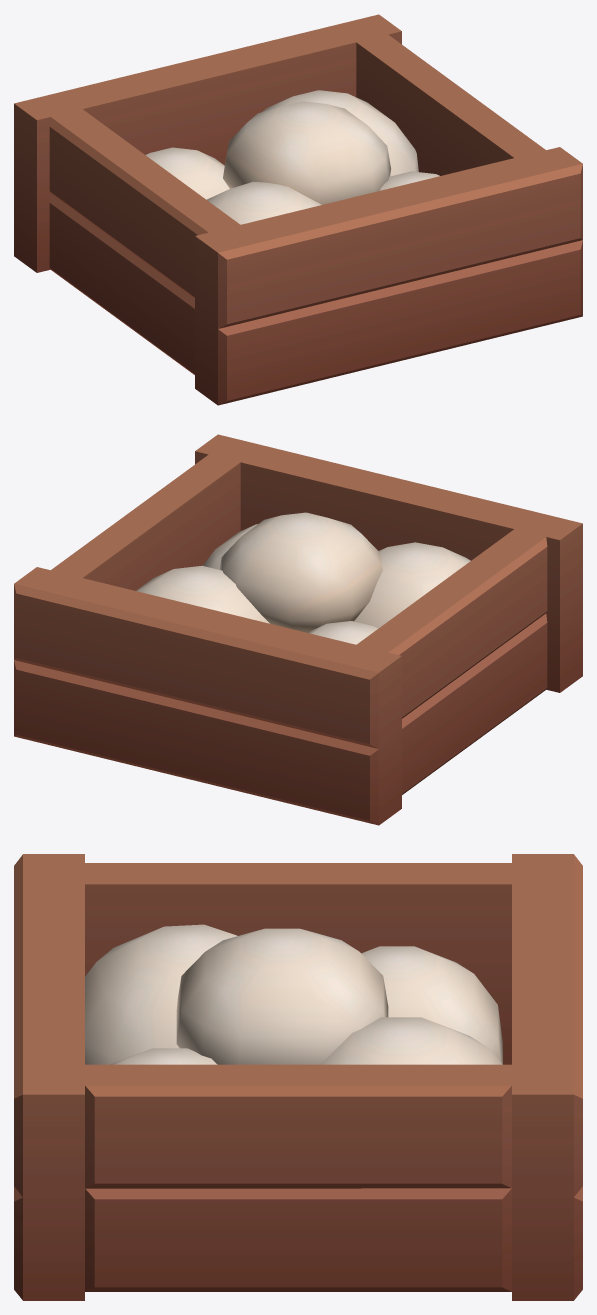
The model's file is dough_couter.glb.
The picture shows the model from 3 angles, top to bottom: view 1: azimuth 30°, elevation 25°; view 2: azimuth 150°, elevation 25°; view 3: azimuth 270°, elevation 25°; orthographic projection. The views are drawn at different scales.
Visible parts, largest first — view 1: crate_dough; view 2: crate_dough; view 3: crate_dough.
Boxes of the visible parts, bbox=[...] form: crate_dough: bbox=[14, 14, 582, 405]; crate_dough: bbox=[14, 434, 582, 825]; crate_dough: bbox=[14, 854, 582, 1300].
Bounding box in the file's own units: 2 × 0.9323 × 2.
1 material, 1 textured.
